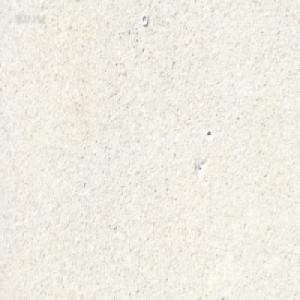Washer: (141, 12, 148, 26)
